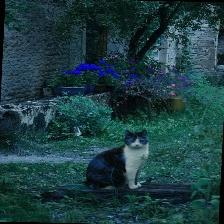kedo: (88, 129, 149, 189)
